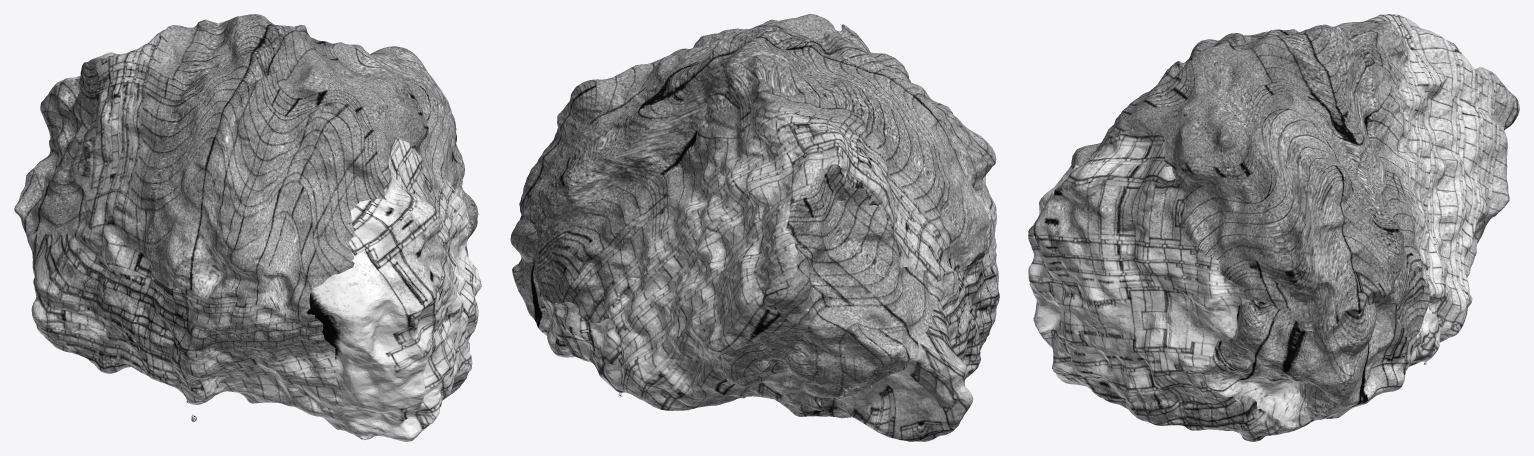
File: Shakespeare.obj
The picture shows the model from 3 angles, left to right: view 1: azimuth 30°, elevation 25°; view 2: azimuth 150°, elevation 25°; view 3: azimuth 270°, elevation 25°; orthographic projection. The views are drawn at different scales.
Visible parts, largest first — view 1: MDL_OBJ_material_0; view 2: MDL_OBJ_material_0; view 3: MDL_OBJ_material_0.
Part boxes in pixels (bbox=[...]): MDL_OBJ_material_0: bbox=[14, 14, 481, 441]; MDL_OBJ_material_0: bbox=[510, 14, 999, 441]; MDL_OBJ_material_0: bbox=[1028, 14, 1519, 441].
Size of the model in its own units: 166 by 132 by 168.
1 material, 1 textured.
